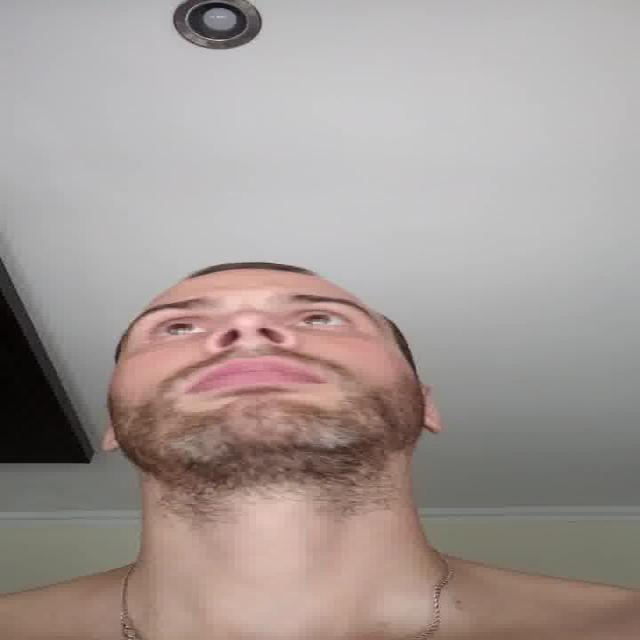earlobe: (100, 433, 127, 453), (424, 416, 444, 434)
eye: (286, 312, 353, 329), (155, 320, 211, 338)
nose: (210, 336, 302, 366)
wholeear: (419, 384, 445, 434)
